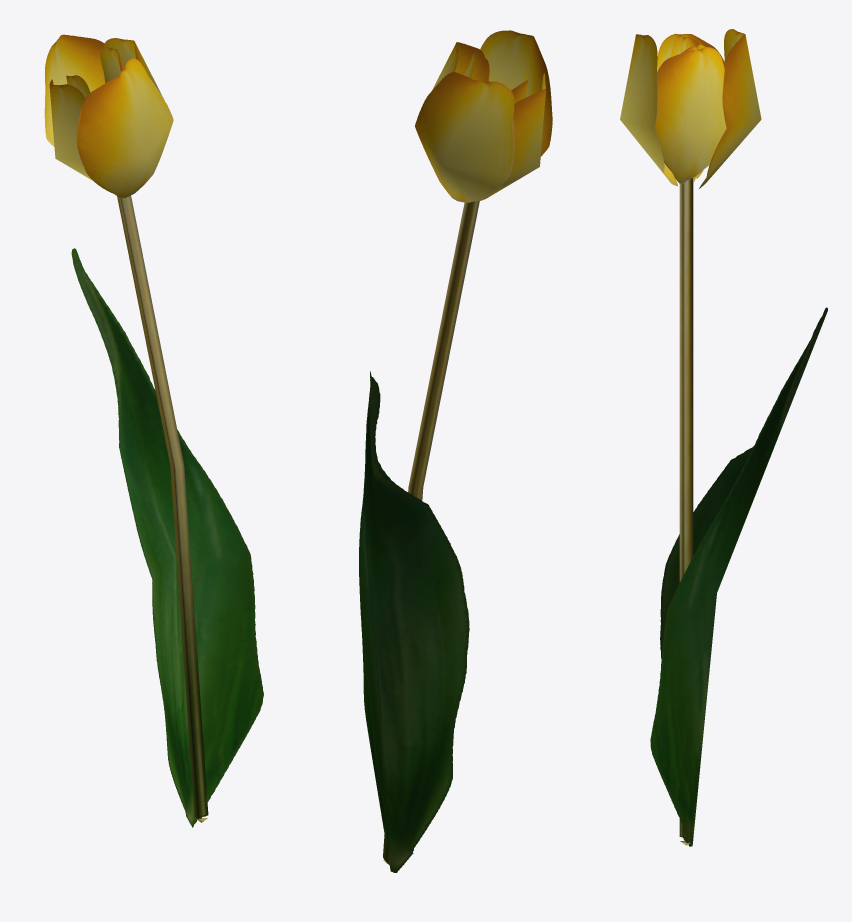
File: Product_tulip_yellow.FBX
3 renders of one model, left to right at view 1: azimuth 30°, elevation 25°; view 2: azimuth 150°, elevation 25°; view 3: azimuth 270°, elevation 25°, orthographic. The views are drawn at different scales.
Visible parts, largest first — view 1: product_tulip_yellow_LOD00; view 2: product_tulip_yellow_LOD00; view 3: product_tulip_yellow_LOD00.
Part boxes in pixels (x1=…): product_tulip_yellow_LOD00: x1=44, y1=34, x2=263, y2=827; product_tulip_yellow_LOD00: x1=359, y1=30, x2=552, y2=872; product_tulip_yellow_LOD00: x1=620, y1=29, x2=827, y2=846.
Size of what is drawn, in the model's own units: 0.1568 by 0.5159 by 0.1316.
